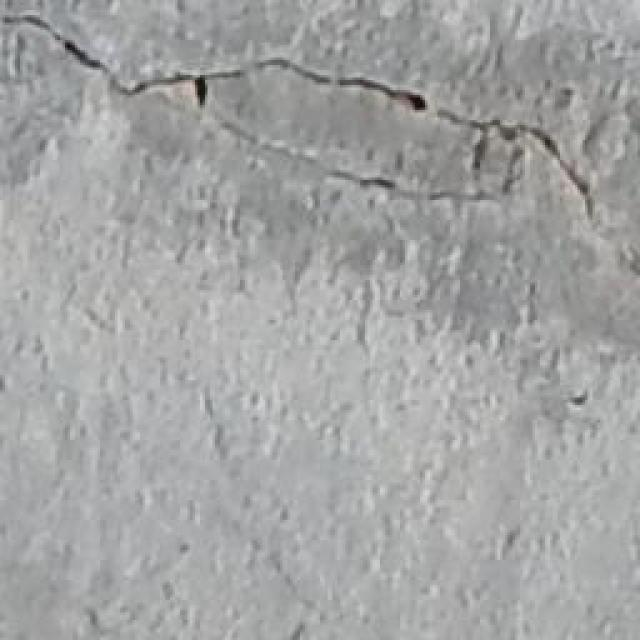concrete-crack: (5, 6, 638, 260)
